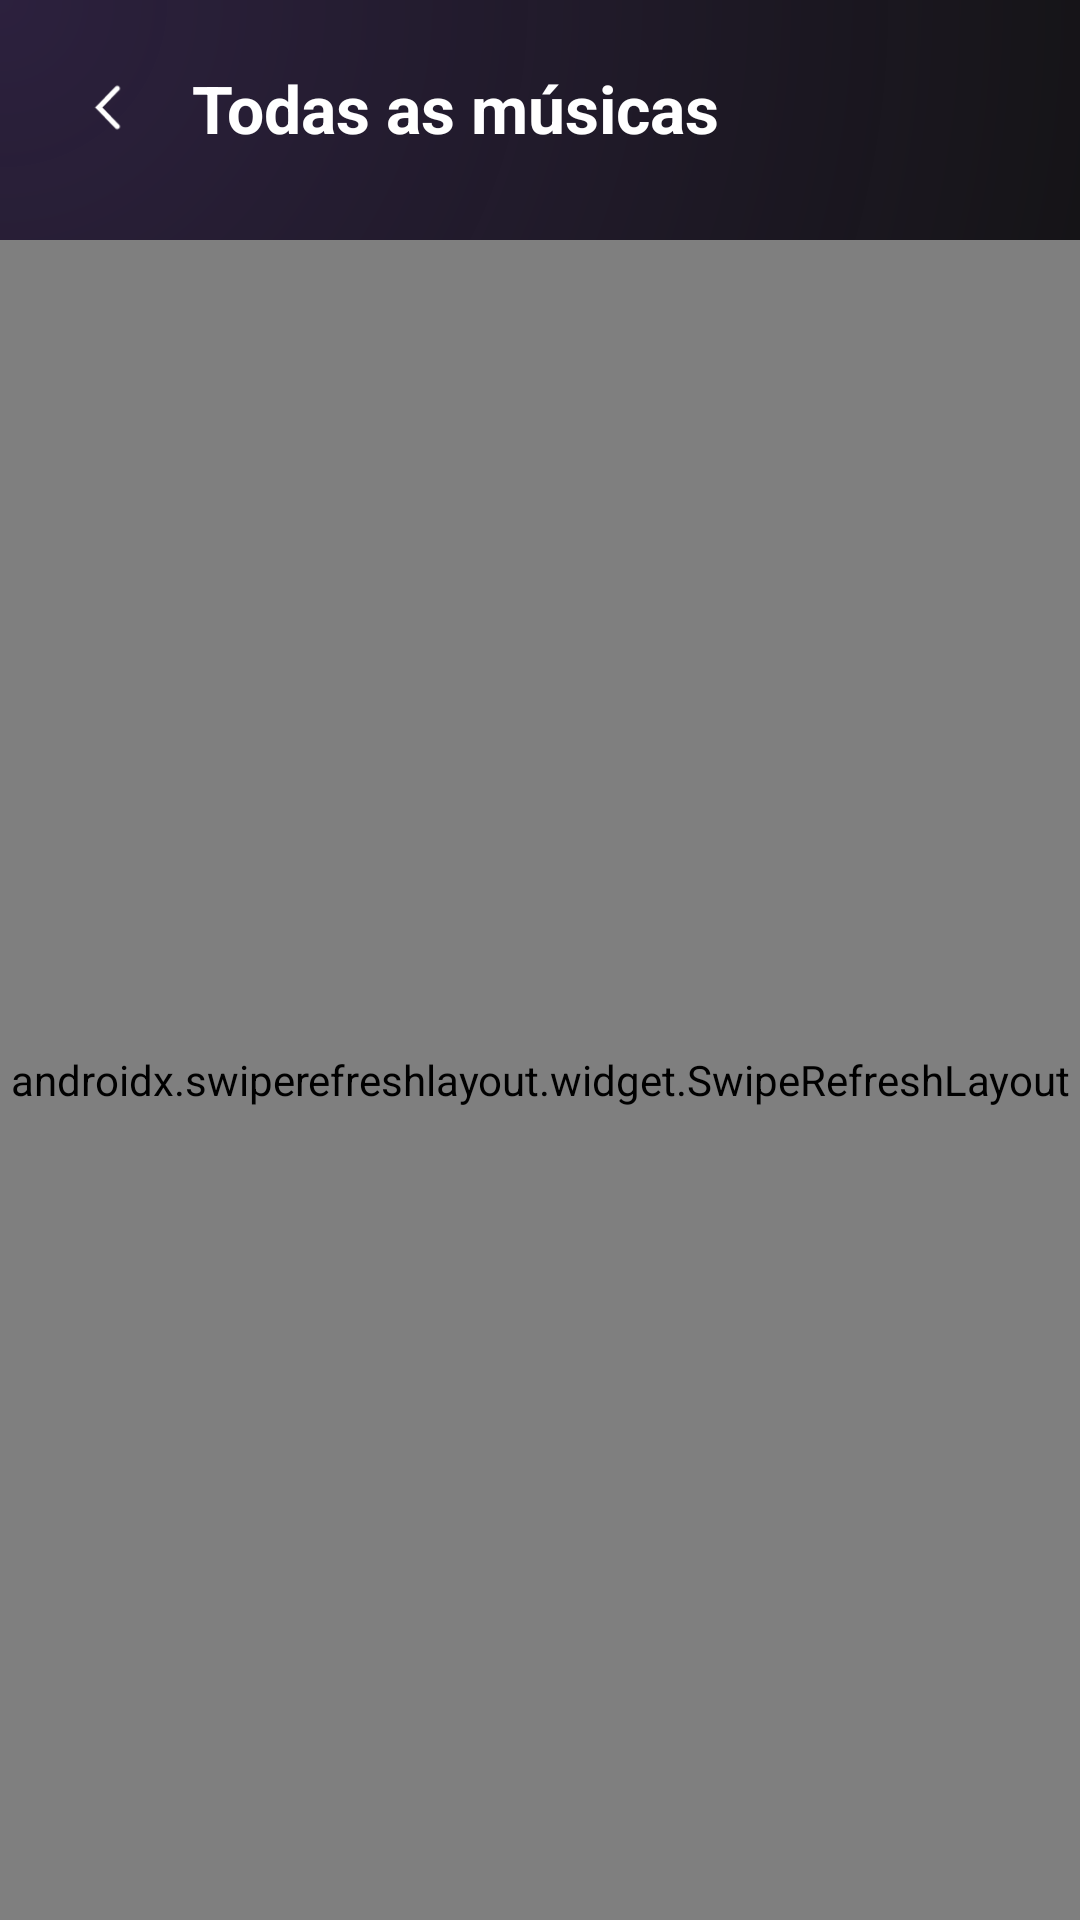

Screen size 1080px x 1920px. Icon name, then its center in pixels as point (x, y):
return: point (108, 107)
